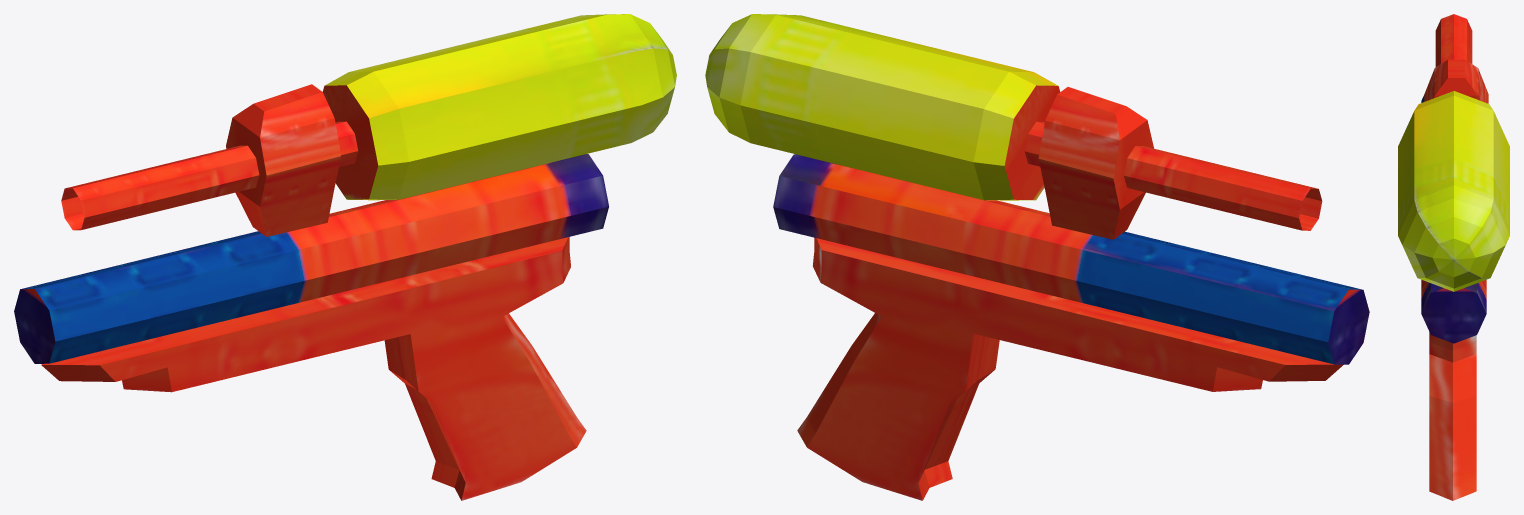
The model's file is WaterPistol.fbx.
3 views of the same model, side by side, from view 1: azimuth 30°, elevation 25°; view 2: azimuth 150°, elevation 25°; view 3: azimuth 270°, elevation 25° (orthographic). The views are drawn at different scales.
Visible parts, largest first — view 1: Plane; view 2: Plane; view 3: Plane.
Part boxes in pixels (x1,y1,x2,y2): Plane: (14,14,676,500); Plane: (705,14,1369,500); Plane: (1398,14,1509,500).
Bounding box in the file's own units: 442 × 291 × 85.87.
